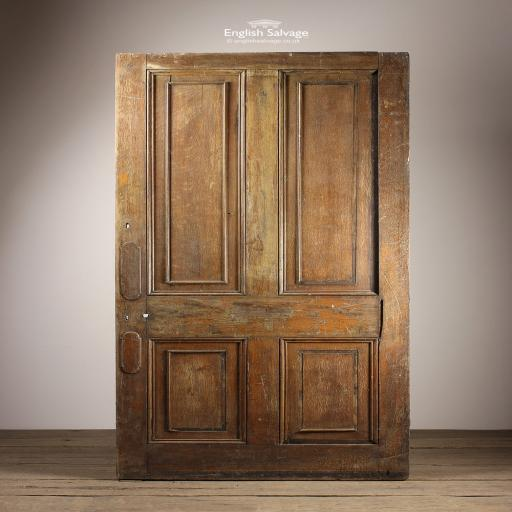Door: (114, 52, 410, 481)
